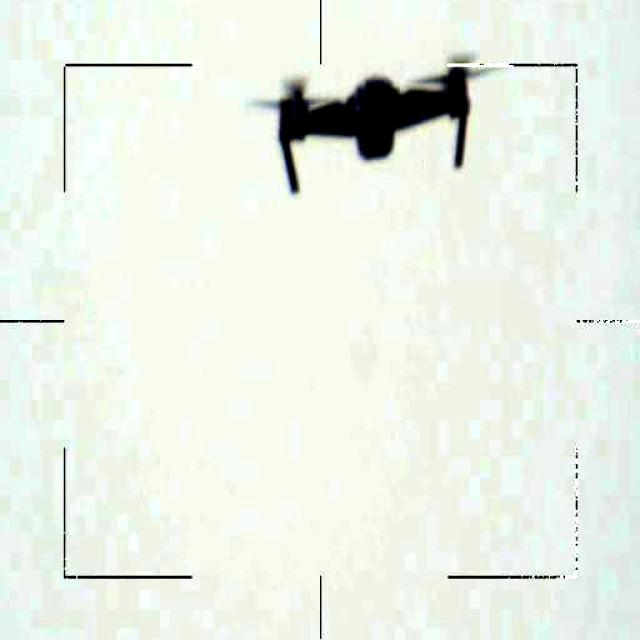bird: (242, 52, 496, 202)
